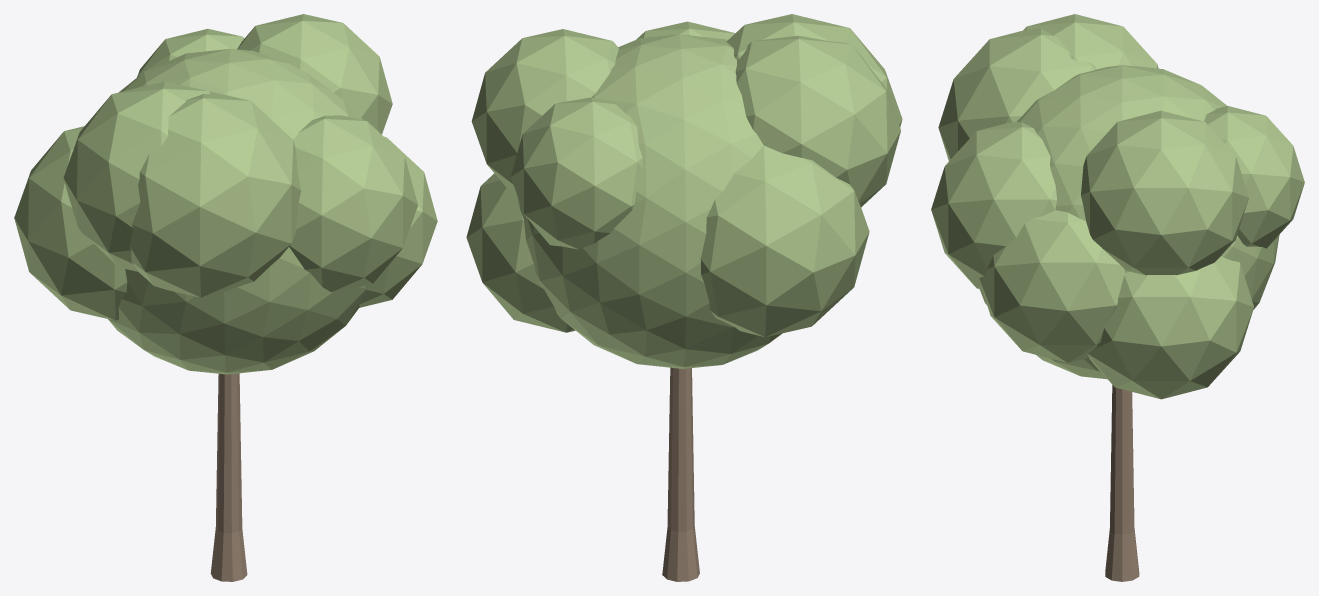
File: tree_b.glb
The picture shows the model from 3 angles, left to right: view 1: azimuth 30°, elevation 25°; view 2: azimuth 150°, elevation 25°; view 3: azimuth 270°, elevation 25°; orthographic projection. The views are drawn at different scales.
Visible parts, largest first — view 1: tree_b_leaf2, tree_b_bark; view 2: tree_b_leaf2, tree_b_bark; view 3: tree_b_leaf2, tree_b_bark.
Part boxes in pixels (bbox=[...]): tree_b_leaf2: bbox=[14, 14, 437, 374]; tree_b_bark: bbox=[210, 373, 247, 581]; tree_b_leaf2: bbox=[466, 14, 902, 368]; tree_b_bark: bbox=[662, 367, 699, 581]; tree_b_leaf2: bbox=[931, 14, 1304, 399]; tree_b_bark: bbox=[1105, 385, 1139, 581].
Bounding box in the file's own units: 4.07 × 5.65 × 3.76.
